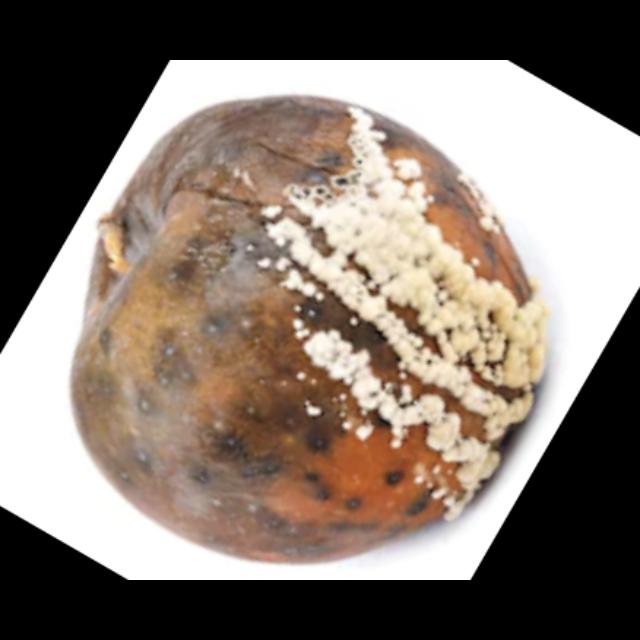Apel Tidak Segar: (52, 73, 564, 540)
